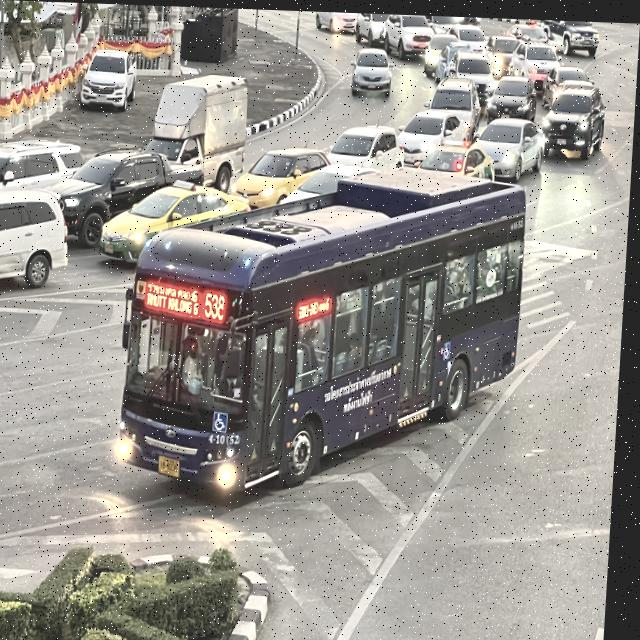Bus-Line-Number: (206, 287, 232, 322)
Destination-Sign-Normal: (147, 279, 206, 319)
TSB-Bus: (117, 163, 533, 506)
